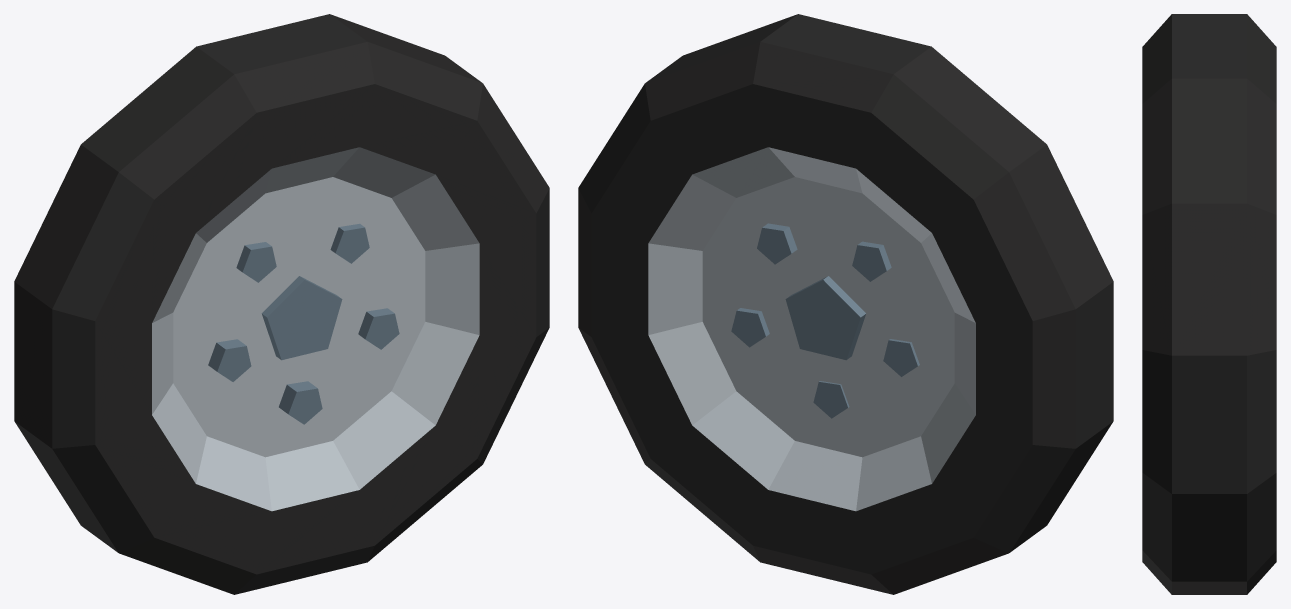
Rendered from front_wheel.glb.
The picture shows the model from 3 angles, left to right: view 1: azimuth 30°, elevation 25°; view 2: azimuth 150°, elevation 25°; view 3: azimuth 270°, elevation 25°; orthographic projection.
Parts seen in each view (by area): view 1: Cylinder; view 2: Cylinder; view 3: Cylinder.
Boxes of the visible parts, x1=… form: Cylinder: x1=14, y1=14, x2=549, y2=594; Cylinder: x1=578, y1=14, x2=1113, y2=594; Cylinder: x1=1142, y1=14, x2=1276, y2=594.
Size of the model in its own units: 0.515 by 0.515 by 0.1213.
